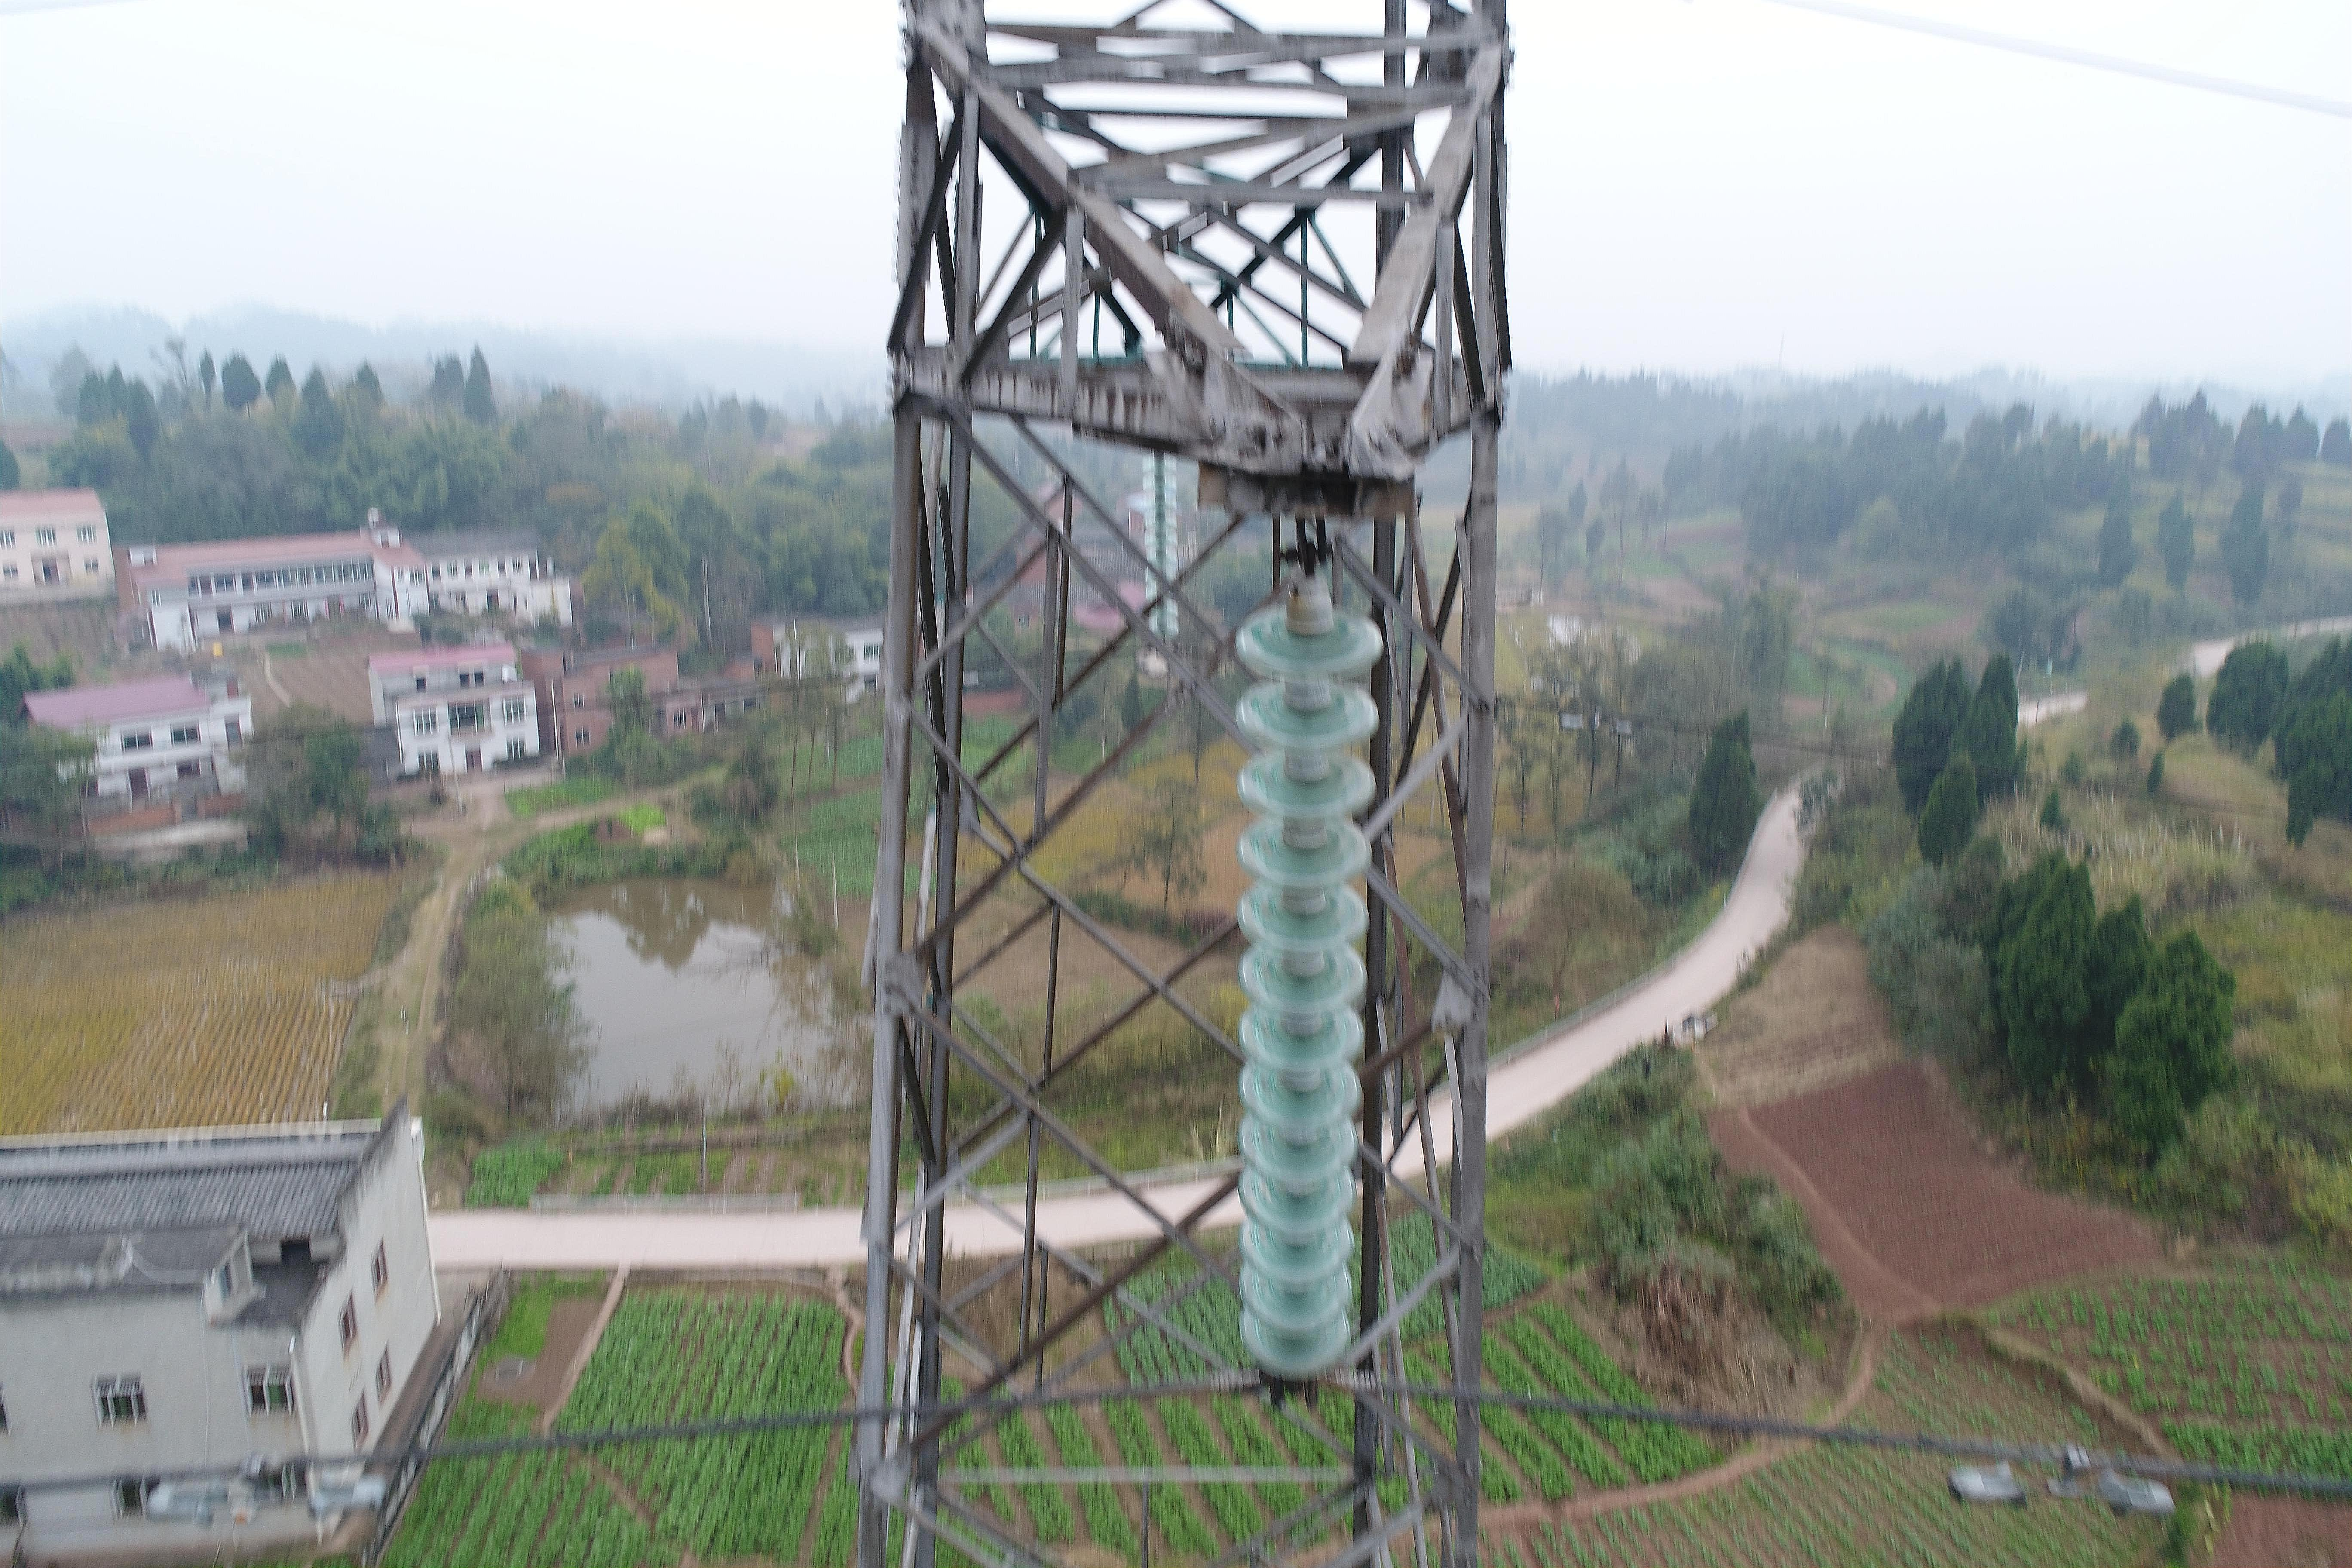insultor3: (1155, 579, 1430, 1368)
